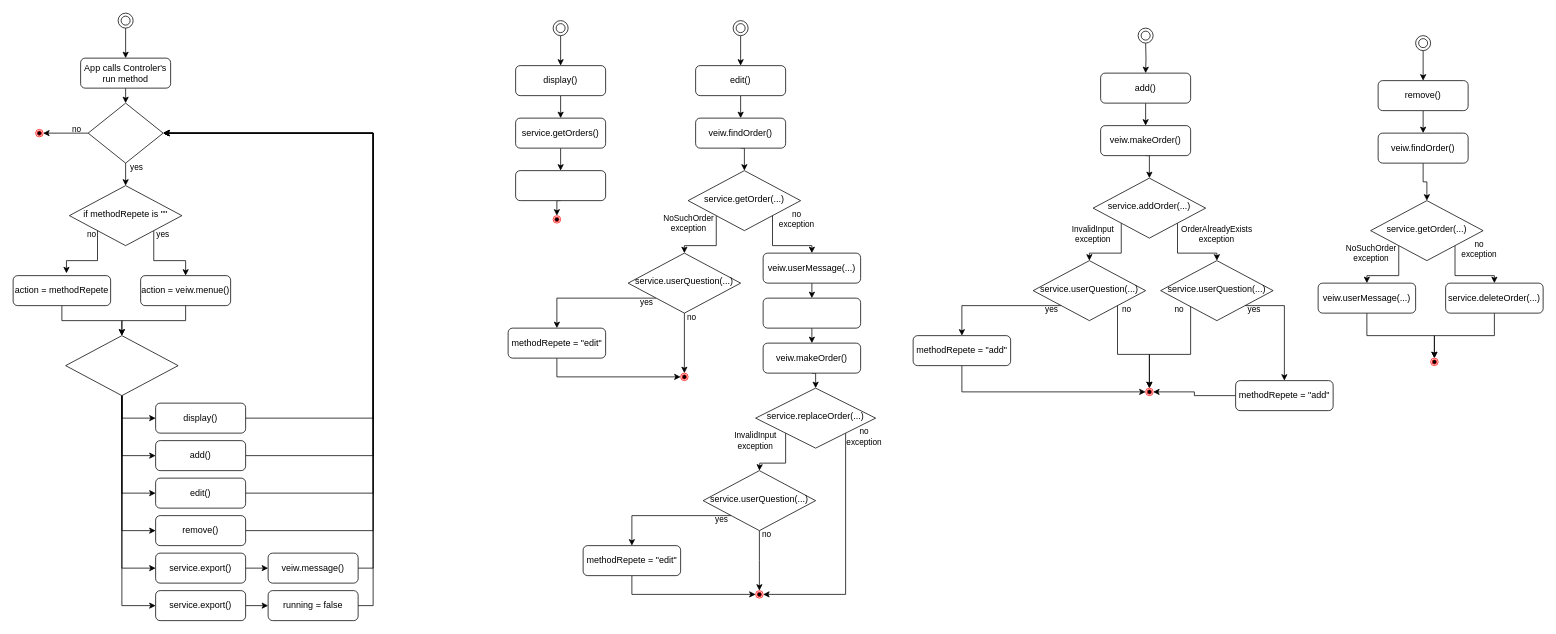
This 1556x634 diagram has some shape labels left out. Each missing label, with the centre of its shape:
if running: the point at 125,132
Swich action: the point at 121,365
veiw.displayOrder(...): the point at 811,312
veiw.displayOrders(...): the point at 560,185
